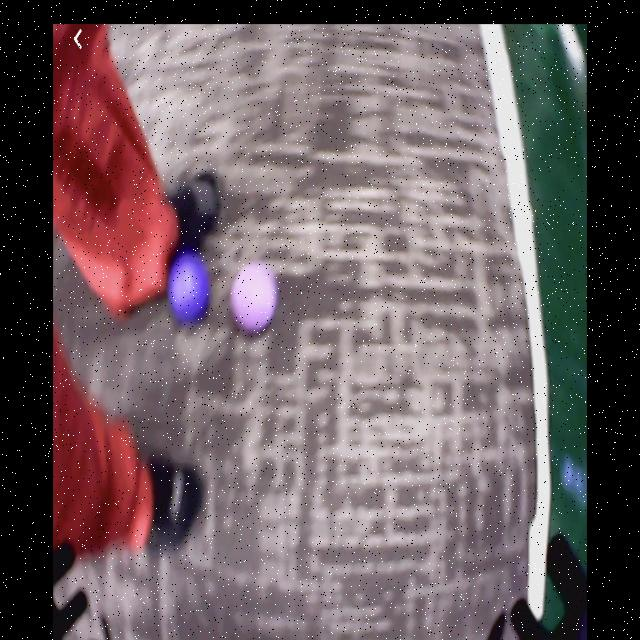ball: (230, 266, 274, 328), (170, 257, 208, 320)
